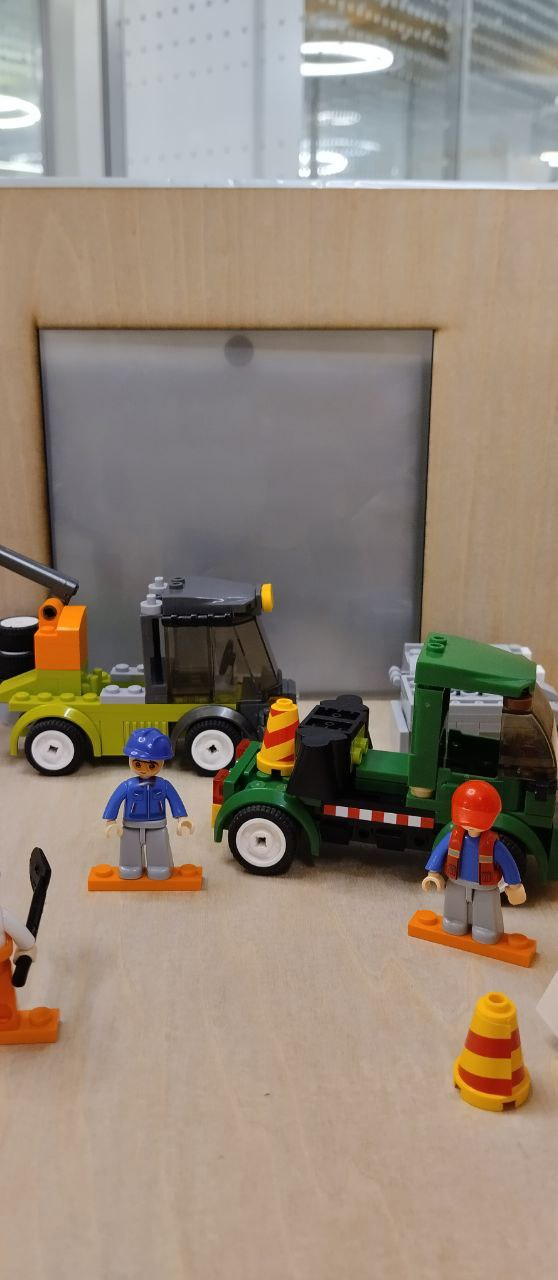Cone: (451, 988, 539, 1108), (257, 700, 301, 772)
Crane: (0, 543, 299, 768)
Object Black: (300, 688, 372, 782)
Truck: (215, 632, 557, 896)
